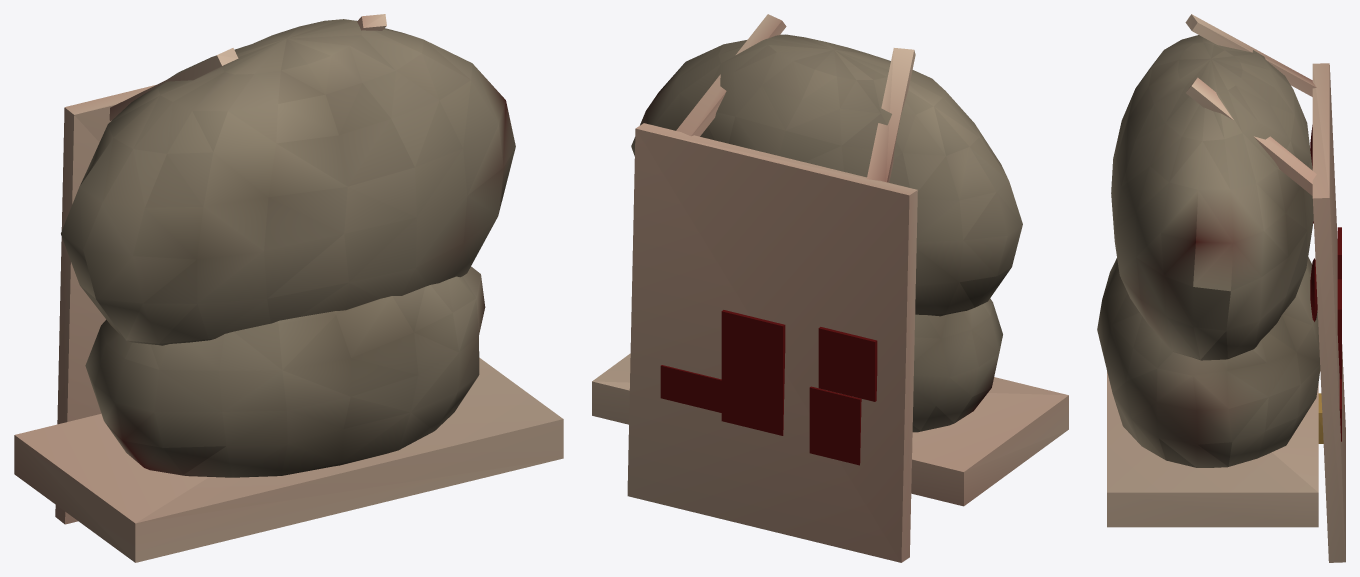
File: ButcherTorso.glb
The picture shows the model from 3 angles, left to right: view 1: azimuth 30°, elevation 25°; view 2: azimuth 150°, elevation 25°; view 3: azimuth 270°, elevation 25°; orthographic projection. The views are drawn at different scales.
Parts seen in each view (by area): view 1: ButcherTorso_shirtButcher, ButcherTorso_leather; view 2: ButcherTorso_leather, ButcherTorso_shirtButcher, ButcherTorso_blood; view 3: ButcherTorso_shirtButcher, ButcherTorso_leather, ButcherTorso_blood.
Boxes of the visible parts, left/top/right/bottom form: ButcherTorso_shirtButcher: left=61, top=19, right=515, bottom=477; ButcherTorso_leather: left=14, top=14, right=563, bottom=562; ButcherTorso_leather: left=592, top=14, right=1068, bottom=562; ButcherTorso_shirtButcher: left=631, top=34, right=1022, bottom=432; ButcherTorso_blood: left=660, top=310, right=877, bottom=465; ButcherTorso_shirtButcher: left=1097, top=35, right=1320, bottom=467; ButcherTorso_leather: left=1107, top=14, right=1345, bottom=562; ButcherTorso_blood: left=1310, top=125, right=1341, bottom=441.
Size of the model in its own units: 2.08 by 2.32 by 1.17.
